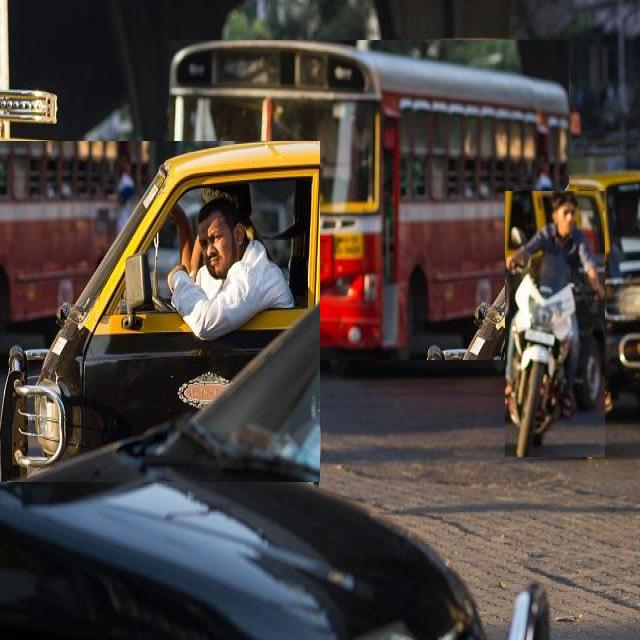bus: (169, 40, 569, 360)
car: (0, 141, 320, 482)
motorcycle: (505, 191, 605, 457)
